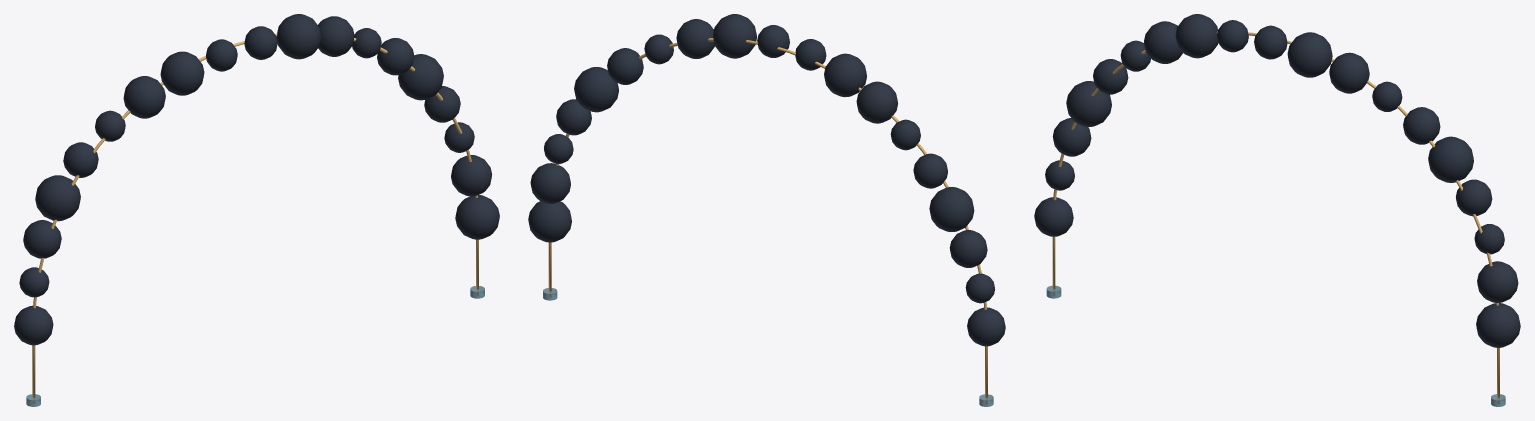
Rendered from threshold-bubble-arch-b-lod0.glb.
3 renders of one model, left to right at view 1: azimuth 30°, elevation 25°; view 2: azimuth 150°, elevation 25°; view 3: azimuth 330°, elevation 25°, orthographic.
Parts seen in each view (by area): view 1: frame; view 2: frame; view 3: frame.
Part boxes in pixels (bbox=[...]): frame: bbox=[14, 14, 499, 406]; frame: bbox=[528, 14, 1005, 406]; frame: bbox=[1034, 14, 1520, 406].
Size of the model in its own units: 17.97 by 11.71 by 2.14.
